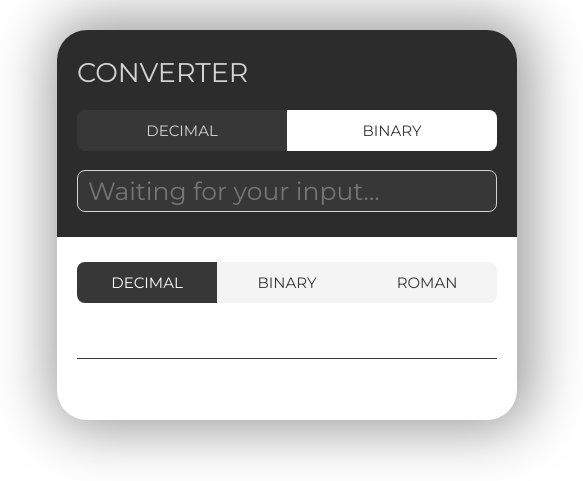
Test: Convert: › From decimal to decimal
The width and height of the screenshot is (583, 481).
Click the button "decimal" below "Converter". click: click(182, 130)
box: [77,110,287,151]
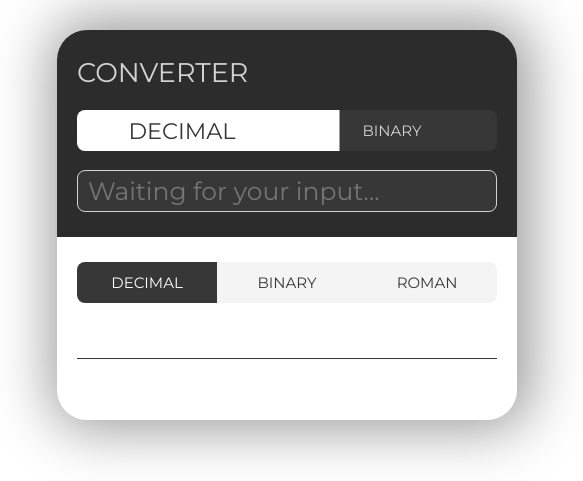
Type "10" into the number field with placeholder "Waiting for your input...". click: (287, 191)
box: [77,170,497,212]
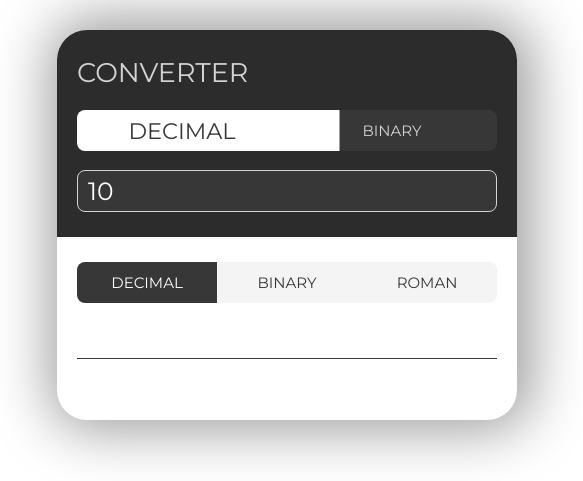
Click the 2nd button "decimal". click: click(147, 282)
box: [77,262,217,303]
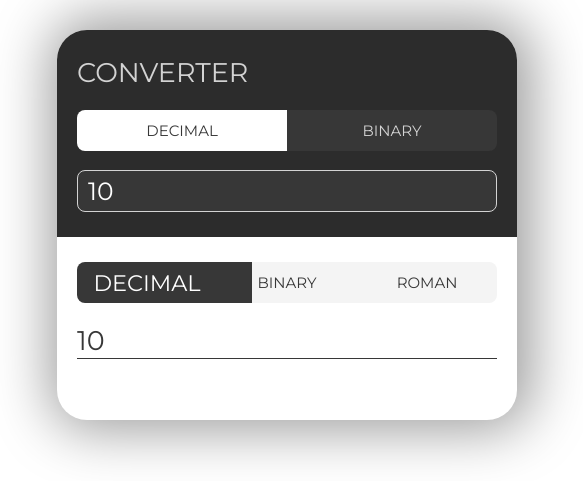
Now the text "10" is shown, box [77,323,497,359]
